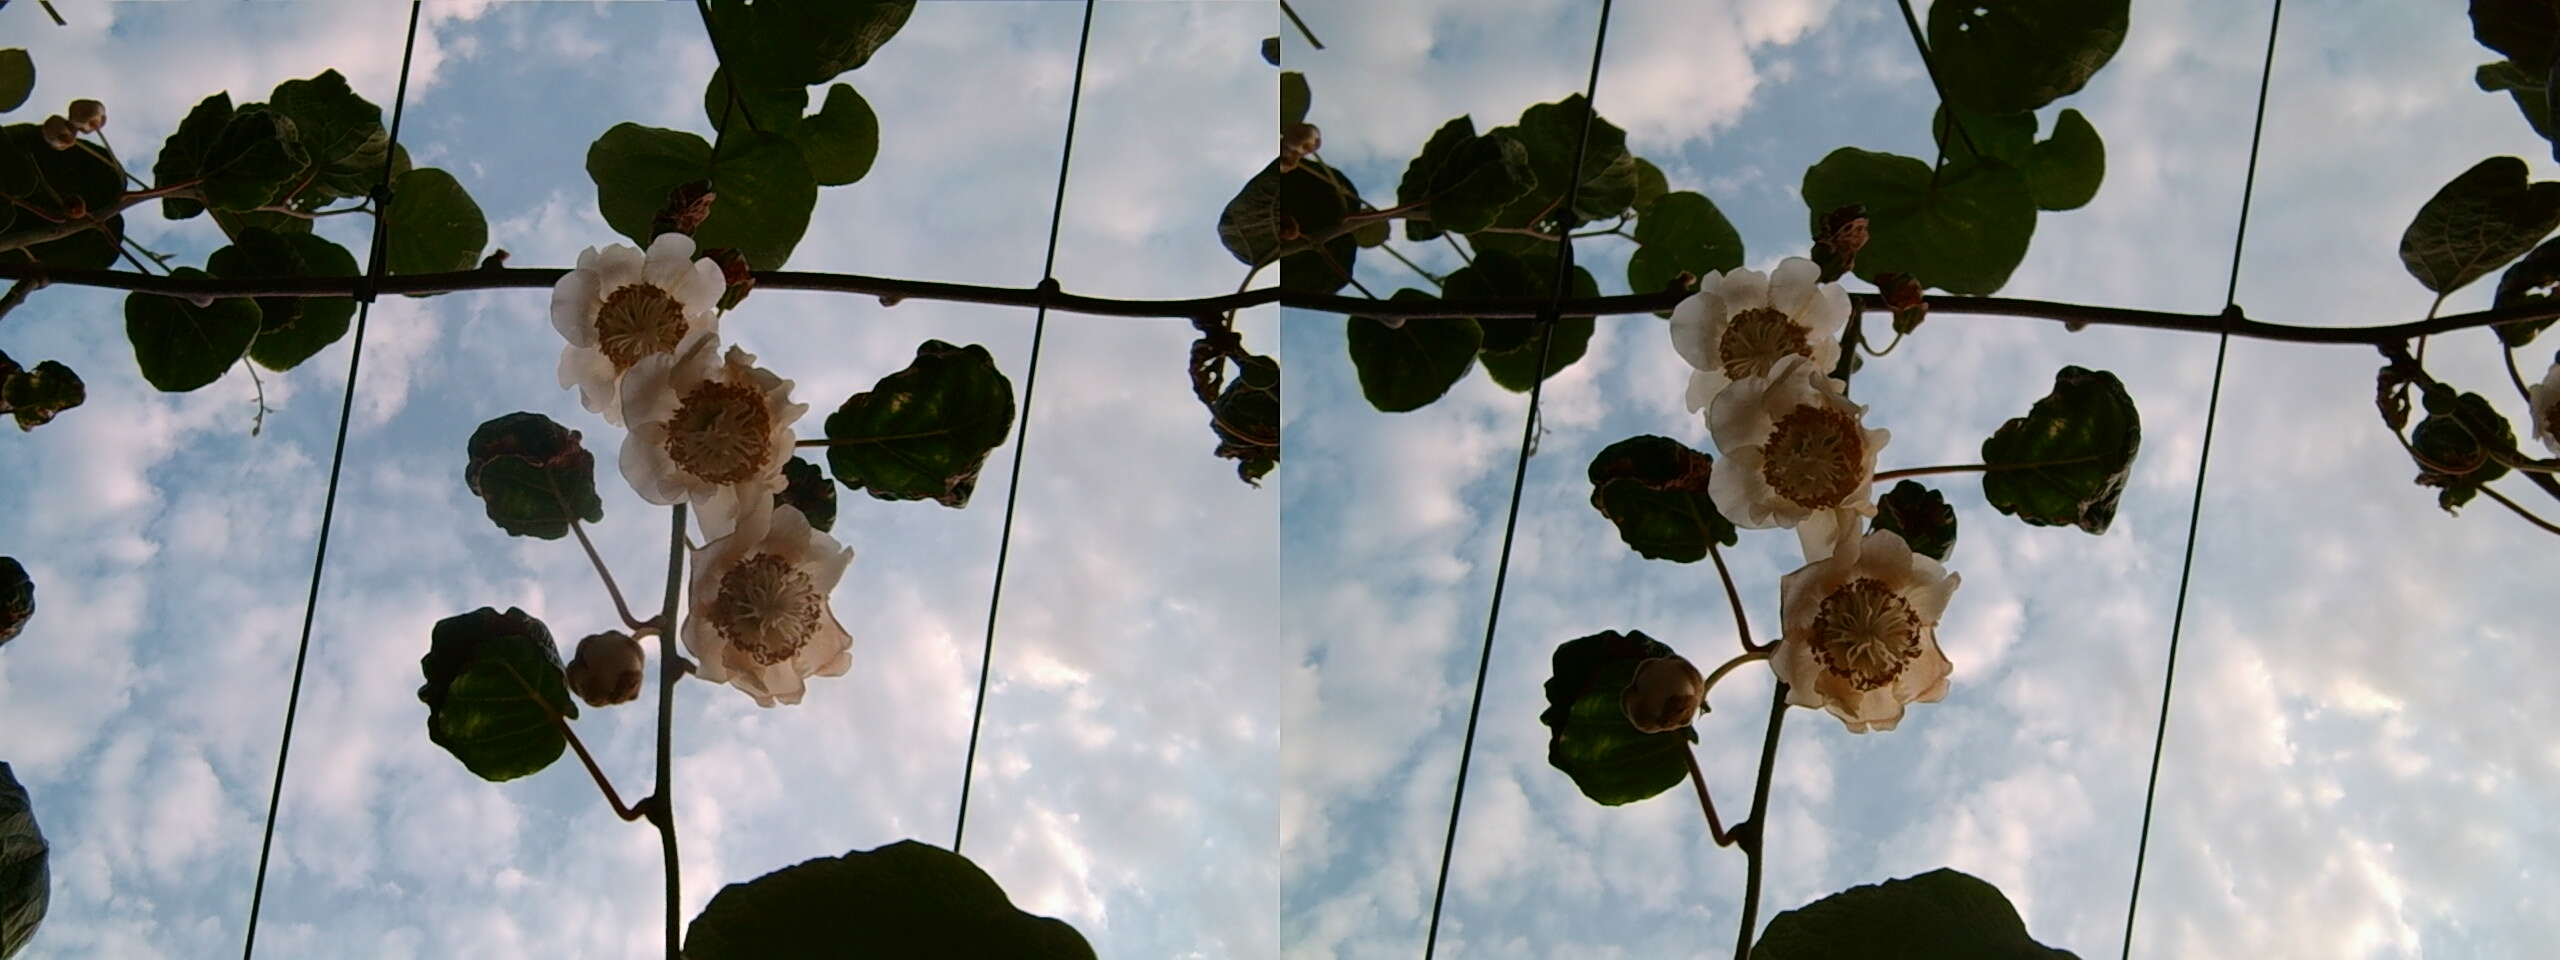flower: (588, 327, 811, 526), (1763, 504, 1961, 727), (668, 496, 859, 700), (544, 220, 736, 411), (1695, 359, 1891, 526), (1662, 255, 1858, 407), (462, 407, 607, 531)
